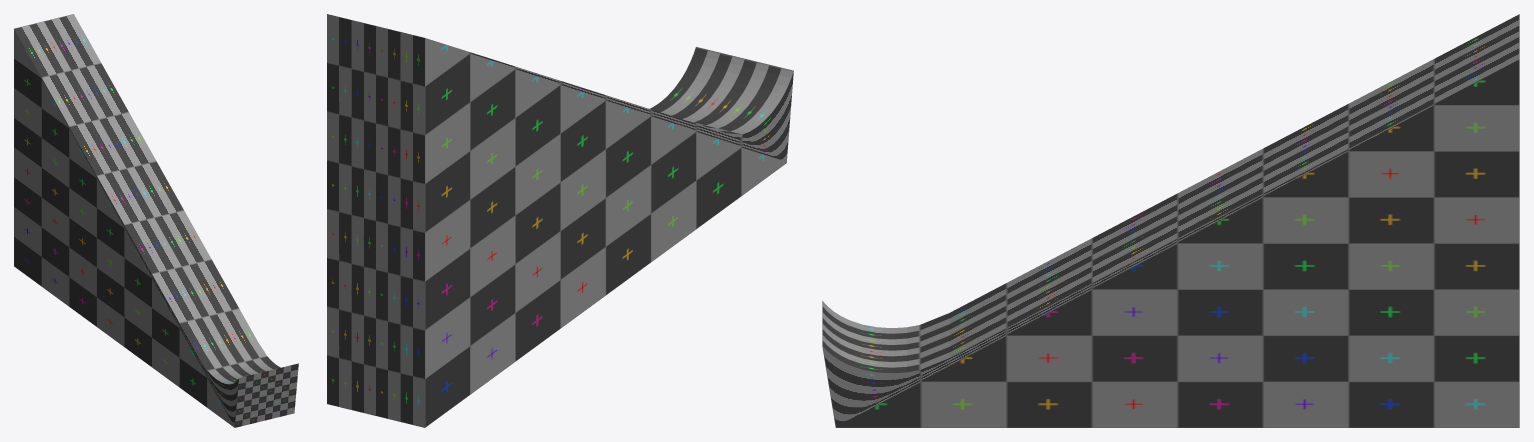
File: starter-ramp.glb
3 views of the same model, side by side, from view 1: azimuth 30°, elevation 25°; view 2: azimuth 150°, elevation 25°; view 3: azimuth 270°, elevation 25° (orthographic). The views are drawn at different scales.
Visible parts, largest first — view 1: Cube; view 2: Cube; view 3: Cube.
Part boxes in pixels (box(x1,y1,x2,y2)): Cube: box(14, 14, 298, 427); Cube: box(327, 14, 793, 427); Cube: box(822, 14, 1519, 427).
Bounding box in the file's own units: 18.92 × 72 × 123.
1 material, 1 textured.
